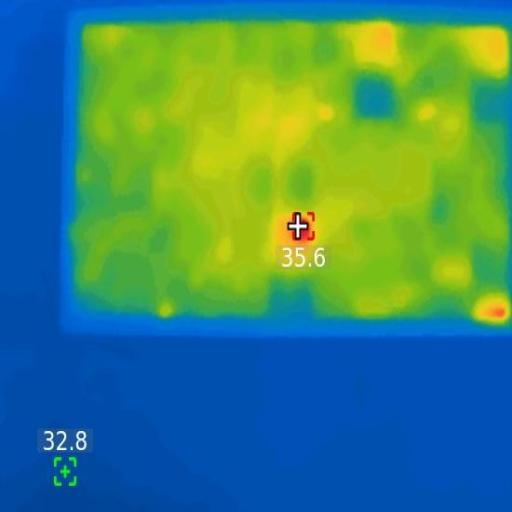hotspot: (289, 219, 307, 243)
